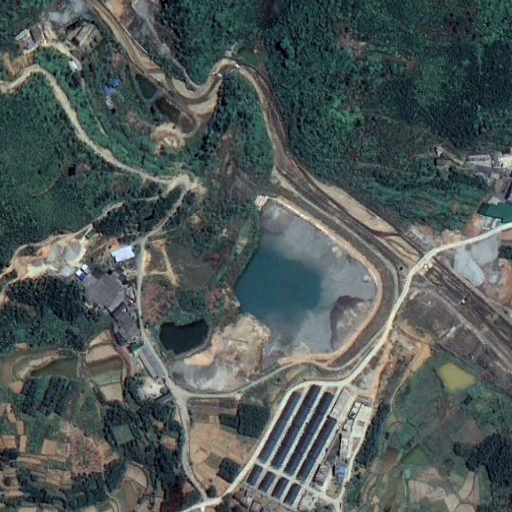tp: (233, 194, 382, 361)
